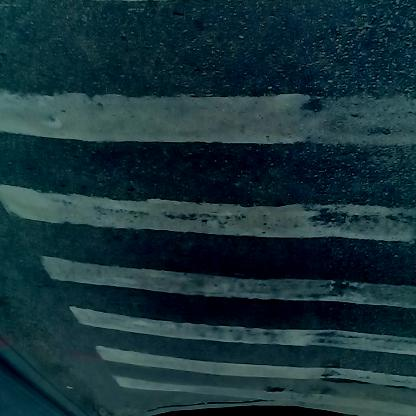crosswalk: (43, 53, 416, 392)
